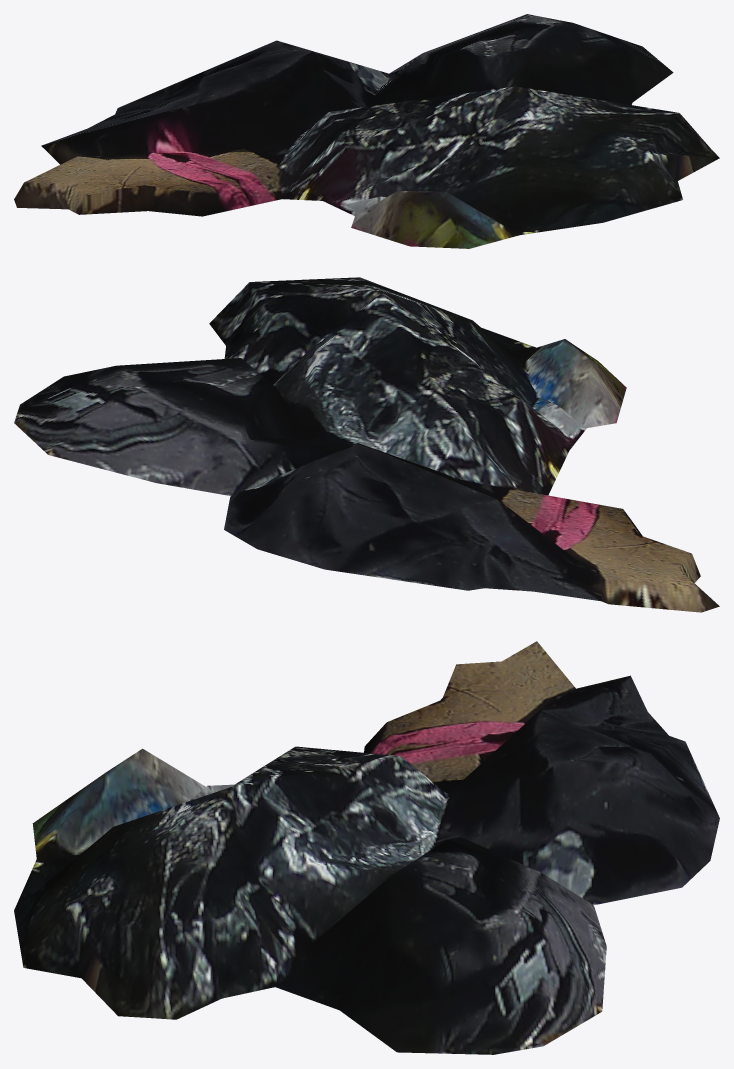
Rendered from Garbage1D.fbx.
3 renders of one model, top to bottom at view 1: azimuth 30°, elevation 25°; view 2: azimuth 150°, elevation 25°; view 3: azimuth 270°, elevation 25°, orthographic. The views are drawn at different scales.
Parts seen in each view (by area): view 1: polySurface851; view 2: polySurface851; view 3: polySurface851.
Boxes of the visible parts, bbox=[...] form: polySurface851: bbox=[14, 14, 719, 248]; polySurface851: bbox=[14, 277, 719, 612]; polySurface851: bbox=[14, 641, 719, 1054].
Size of the model in its own units: 1.41 by 0.2191 by 0.9929.
